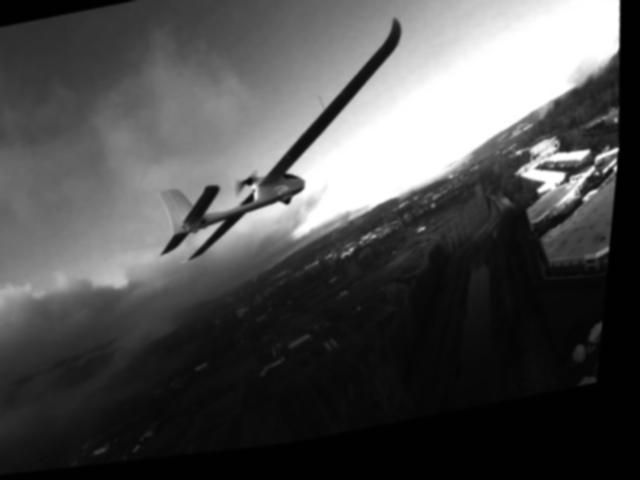hedef: (139, 20, 428, 281)
